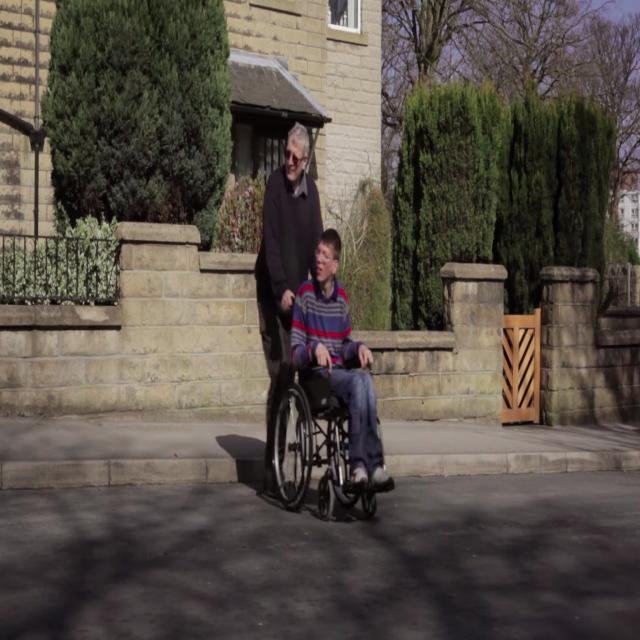wheelchairs: (265, 305, 385, 520)
